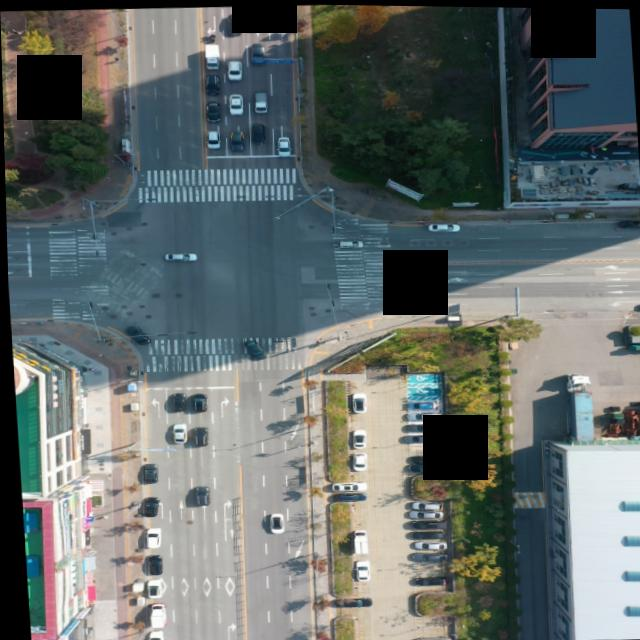car: (240, 337, 263, 360), (125, 325, 150, 344), (406, 549, 442, 562), (348, 390, 365, 413), (331, 596, 366, 607), (191, 486, 208, 507), (142, 527, 159, 548), (141, 497, 158, 518), (351, 559, 368, 580), (408, 529, 443, 539), (402, 462, 440, 471), (226, 62, 243, 82), (328, 482, 362, 492), (204, 102, 220, 123), (400, 423, 436, 432), (405, 520, 441, 529), (228, 96, 245, 115), (140, 578, 157, 597), (265, 514, 282, 533), (349, 451, 366, 470), (349, 428, 366, 447), (226, 14, 242, 34), (427, 220, 459, 230), (402, 412, 437, 421), (400, 433, 435, 442), (404, 454, 439, 463), (162, 252, 196, 261), (331, 492, 365, 501), (408, 575, 442, 584), (249, 10, 265, 29), (140, 464, 156, 483), (251, 43, 266, 63), (145, 556, 160, 576), (403, 509, 436, 518), (249, 126, 265, 144), (170, 425, 186, 443), (189, 394, 205, 412), (409, 539, 441, 548), (170, 393, 184, 413), (205, 131, 220, 149), (276, 138, 291, 156), (204, 75, 219, 93), (230, 133, 245, 150), (191, 428, 205, 446), (405, 634, 445, 640), (405, 400, 431, 409), (408, 499, 437, 507), (336, 238, 359, 247), (142, 629, 159, 640)
large_truck: (562, 372, 595, 442)
small_truck: (200, 42, 220, 69), (347, 528, 366, 555), (145, 602, 163, 627), (254, 93, 270, 113)
